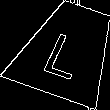L_N: (41, 22, 95, 79)
